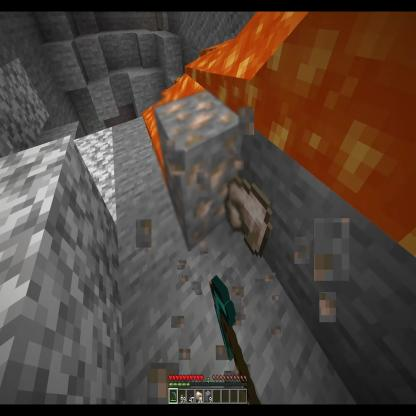iron ore: (152, 89, 244, 251)
